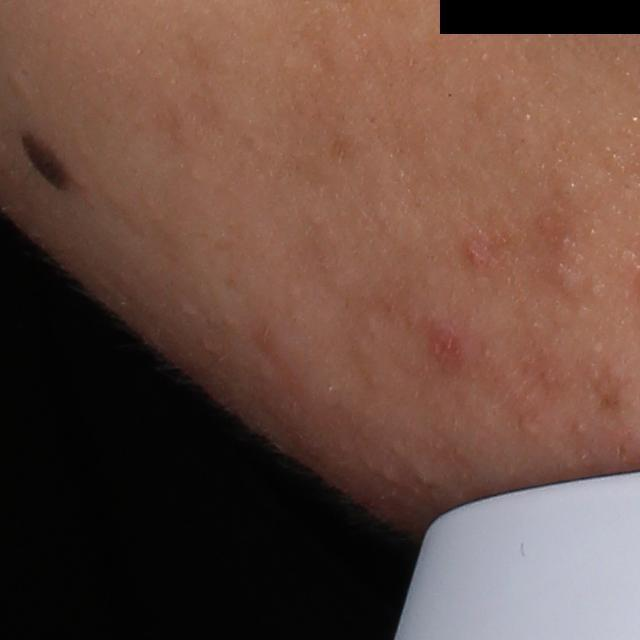comedo: (6, 73, 32, 99)
nevus: (15, 128, 75, 193)
papule: (432, 325, 464, 371), (466, 237, 494, 274)
